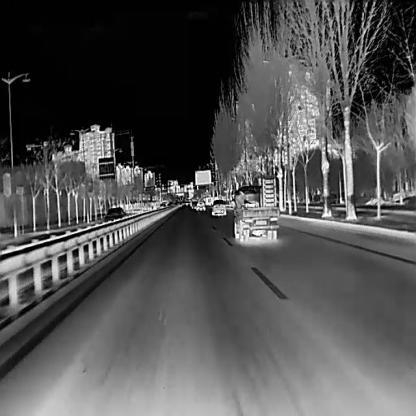car: (231, 176, 279, 242), (103, 206, 128, 229), (211, 198, 226, 216), (196, 198, 205, 210), (190, 201, 197, 208)
